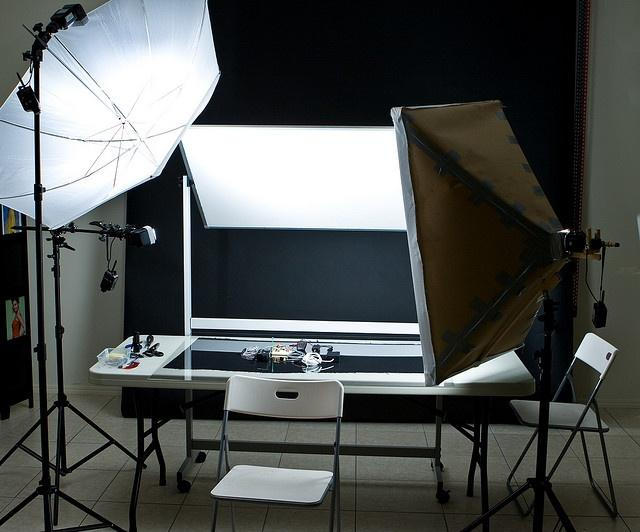Kursi: (209, 373, 345, 531), (505, 330, 618, 518)
Meja: (88, 333, 535, 421)
